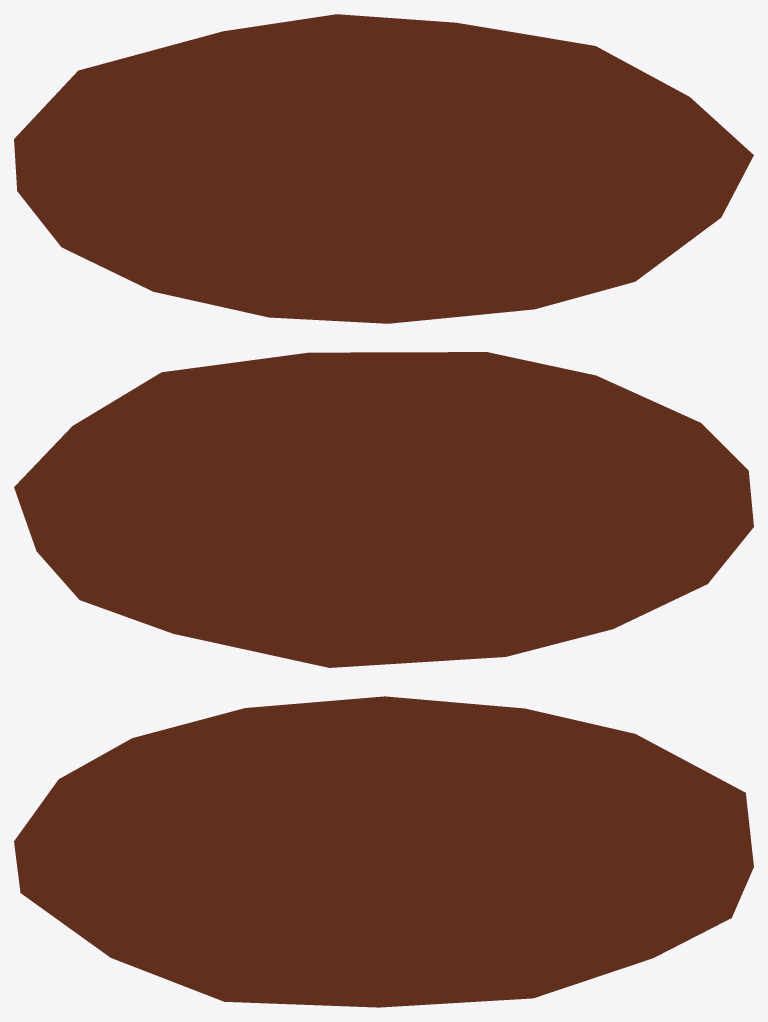
File: coffee.fbx
3 renders of one model, top to bottom at view 1: azimuth 30°, elevation 25°; view 2: azimuth 150°, elevation 25°; view 3: azimuth 270°, elevation 25°, orthographic. The views are drawn at different scales.
Parts seen in each view (by area): view 1: coffee; view 2: coffee; view 3: coffee.
Boxes of the visible parts, x1,y1,x2,y2 form: coffee: (14, 14, 753, 323); coffee: (14, 352, 753, 667); coffee: (14, 696, 753, 1007).
Bounding box in the file's own units: 18.92 × 0 × 19.02.
